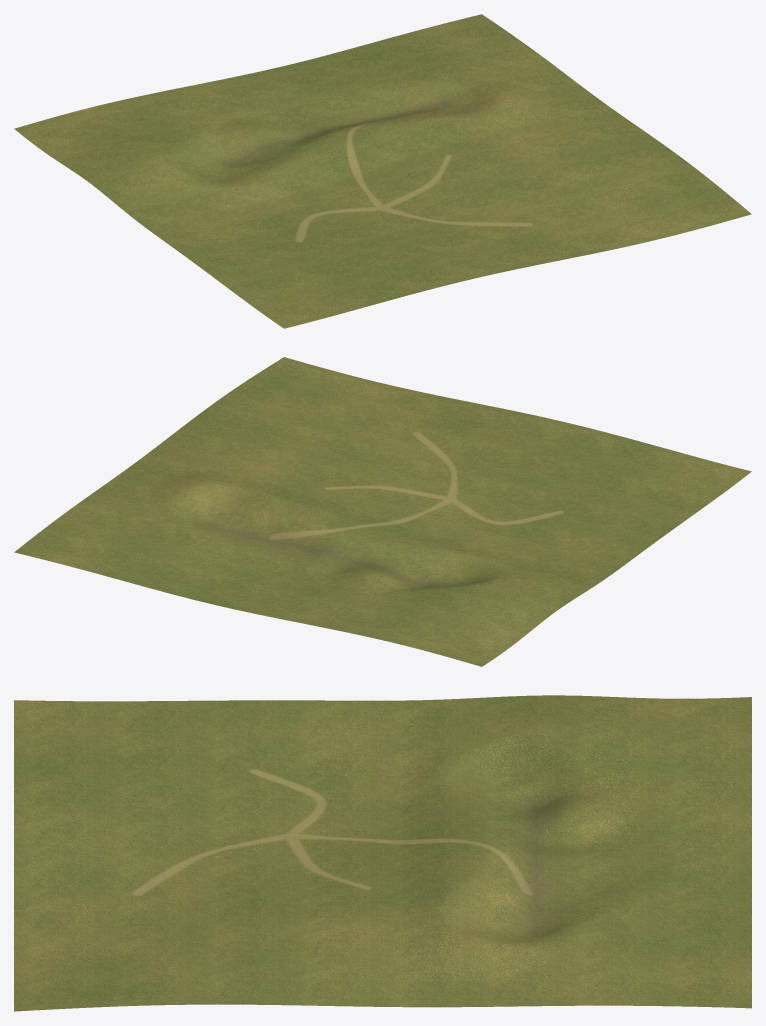
The model's file is ZoneOnePrairieCandidate.glb.
3 renders of one model, top to bottom at view 1: azimuth 30°, elevation 25°; view 2: azimuth 150°, elevation 25°; view 3: azimuth 270°, elevation 25°, orthographic. The views are drawn at different scales.
Parts seen in each view (by area): view 1: ZoneOne continuous prairie source; view 2: ZoneOne continuous prairie source; view 3: ZoneOne continuous prairie source.
Part boxes in pixels (x1,y1,x2,y2): ZoneOne continuous prairie source: (14, 14, 751, 328); ZoneOne continuous prairie source: (14, 357, 751, 666); ZoneOne continuous prairie source: (14, 695, 751, 1011).
Size of the model in its own units: 240 by 10.74 by 240.
Materials: 1 (1 with a texture image).
